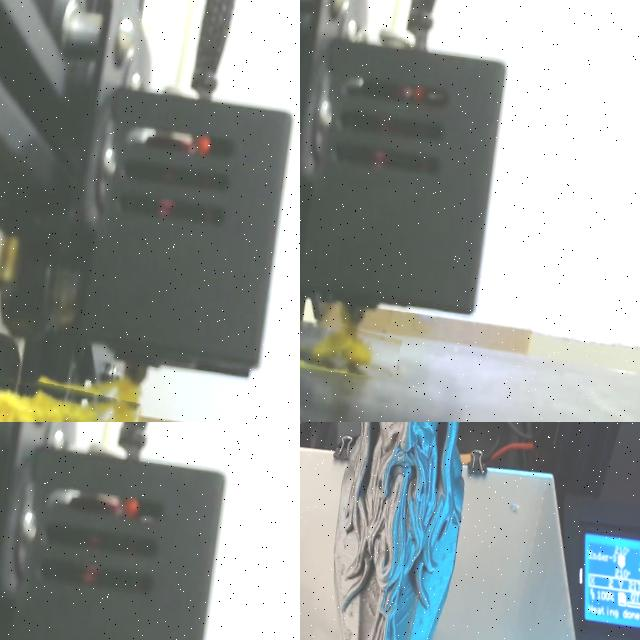spaghetti: (0, 387, 136, 422), (303, 327, 396, 378)
